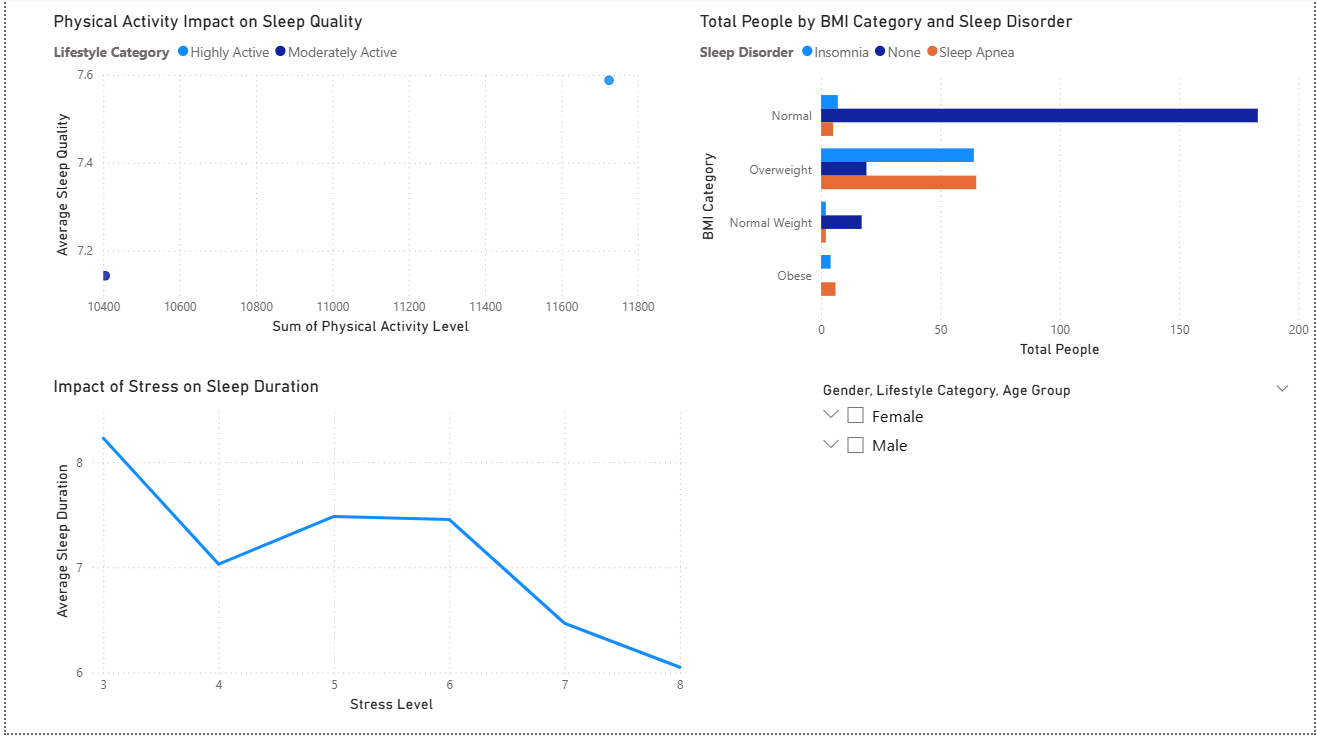

This screenshot's page, from the dashboard's own definition file:
{"tool":"powerbi","page":{"name":"Lifestyle Analysis","canvas":[1280,720],"ordinal":1},"visuals":[{"type":"scatterChart","title":"Physical Activity Impact on Sleep Quality","fields":{"X":["Sum(sleep_data.Physical Activity Level)"],"Y":["sleep_data.Average Sleep Quality"],"Series":["sleep_data.Lifestyle Category"]},"box":[41.4,12.9,598.6,321.4],"z":0},{"type":"lineChart","title":"Impact of Stress on Sleep Duration","fields":{"Category":["sleep_data.Stress Level"],"Y":["sleep_data.Average Sleep Duration"]},"box":[41.4,370,632.9,334.3],"z":1000},{"type":"clusteredBarChart","fields":{"Category":["sleep_data.BMI Category"],"Y":["sleep_data.Total People"],"Series":["sleep_data.Sleep Disorder"]},"box":[674.3,12.9,605.7,344.3],"z":1001},{"type":"slicer","fields":{"Values":["sleep_data.Gender","sleep_data.Lifestyle Category","sleep_data.Age Group"]},"box":[785.7,370,481.4,334.3],"z":1002}]}

Visuals, with their boxes in screenshot pixels (x1, y1, x2, y2), scaled from the page's 1280x720 canvas onto the 1317x741 screenshot:
"Physical Activity Impact on Sleep Quality" scatterChart: bbox=[43, 13, 658, 344]
"Impact of Stress on Sleep Duration" lineChart: bbox=[43, 381, 694, 725]
clusteredBarChart - sleep_data.BMI Category x sleep_data.Total People: bbox=[694, 13, 1316, 368]
slicer - sleep_data.Gender x sleep_data.Lifestyle Category: bbox=[808, 381, 1304, 725]
